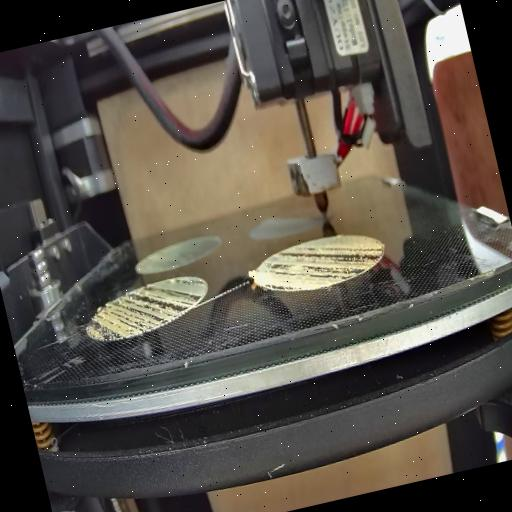under_extrusion: (260, 228, 390, 302), (82, 267, 208, 343)
